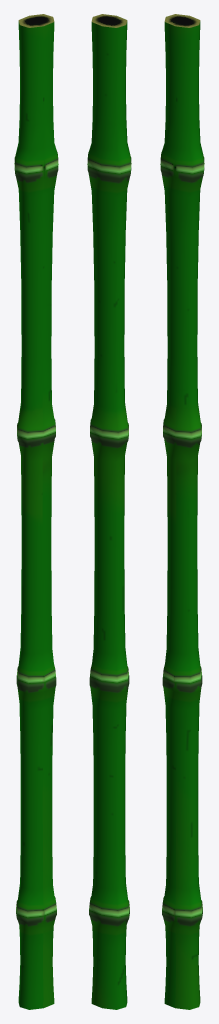
The model's file is bamboo.fbx.
3 views of the same model, side by side, from view 1: azimuth 30°, elevation 25°; view 2: azimuth 150°, elevation 25°; view 3: azimuth 330°, elevation 25° (orthographic).
Parts seen in each view (by area): view 1: Cube; view 2: Cube; view 3: Cube.
Part boxes in pixels (left/top/right/bottom): Cube: left=14, top=14, right=58, bottom=1009; Cube: left=87, top=14, right=131, bottom=1009; Cube: left=160, top=14, right=204, bottom=1009.
Size of the model in its own units: 0.4592 by 10.04 by 0.2935.
